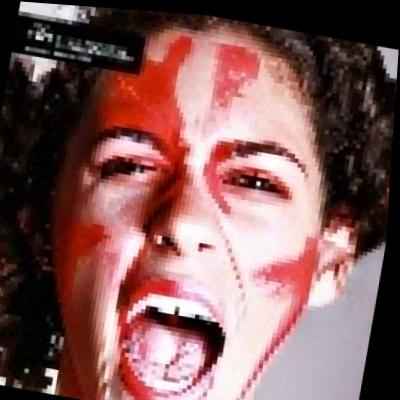angry: (24, 17, 357, 400)
